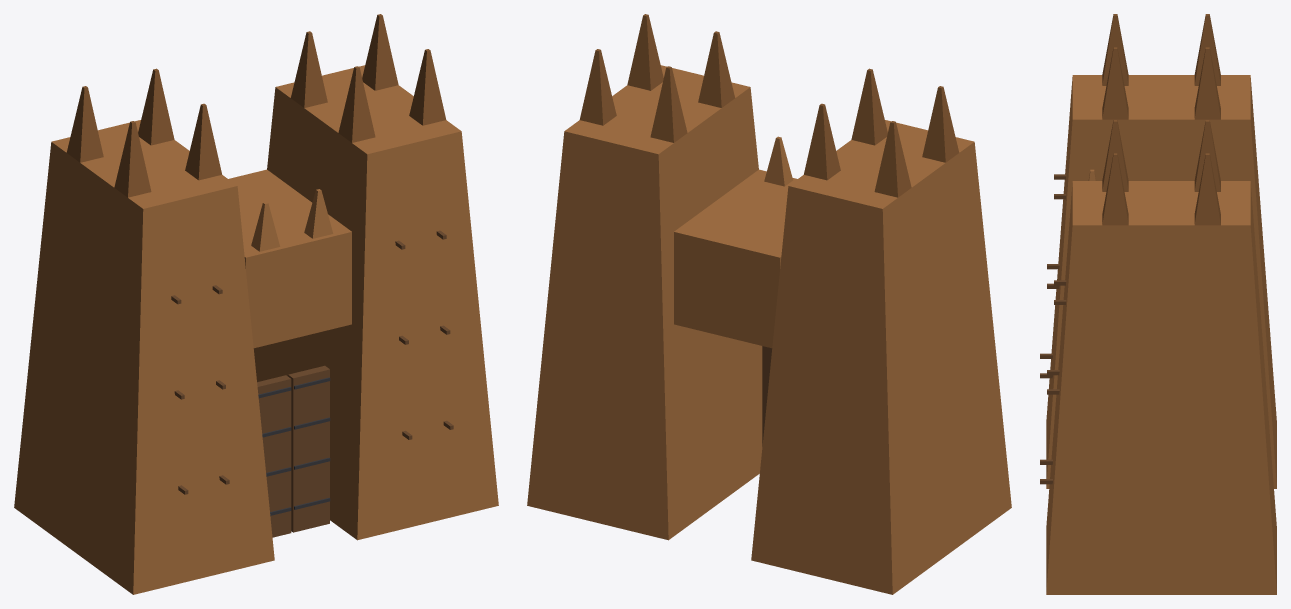
Rendered from gate.glb.
3 renders of one model, left to right at view 1: azimuth 30°, elevation 25°; view 2: azimuth 150°, elevation 25°; view 3: azimuth 270°, elevation 25°, orthographic. The views are drawn at different scales.
Parts seen in each view (by area): view 1: Gate; view 2: Gate; view 3: Gate.
Boxes of the visible parts, x1,y1,x2,y2 form: Gate: (14,14,498,594); Gate: (527,14,1011,594); Gate: (1040,14,1276,594).
Bounding box in the file's own units: 12.4 × 14.2 × 7.19.
